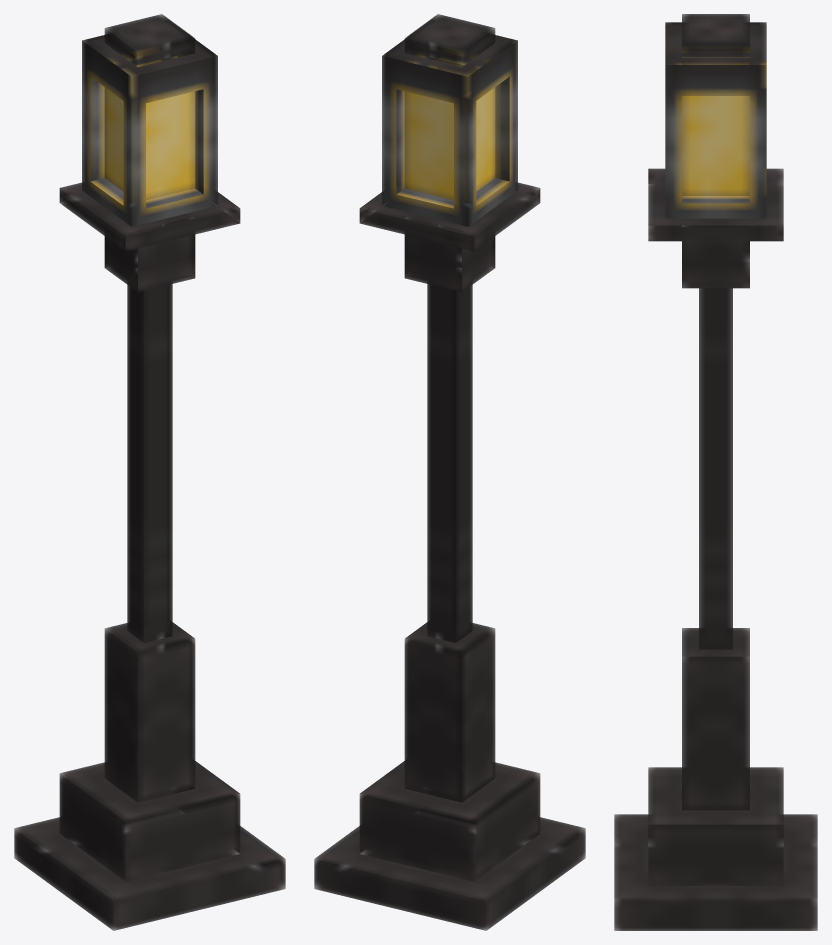
File: Post_Stand_Lamp.glb
The picture shows the model from 3 angles, left to right: view 1: azimuth 30°, elevation 25°; view 2: azimuth 150°, elevation 25°; view 3: azimuth 270°, elevation 25°; orthographic projection. The views are drawn at different scales.
Parts seen in each view (by area): view 1: Post_Stand_Lamp; view 2: Post_Stand_Lamp; view 3: Post_Stand_Lamp.
Boxes of the visible parts, x1,y1,x2,y2 form: Post_Stand_Lamp: (14, 14, 285, 930); Post_Stand_Lamp: (314, 14, 585, 930); Post_Stand_Lamp: (614, 14, 817, 930).
Size of the model in its own units: 0.75 by 3.5 by 0.75.
1 material, 1 textured.
